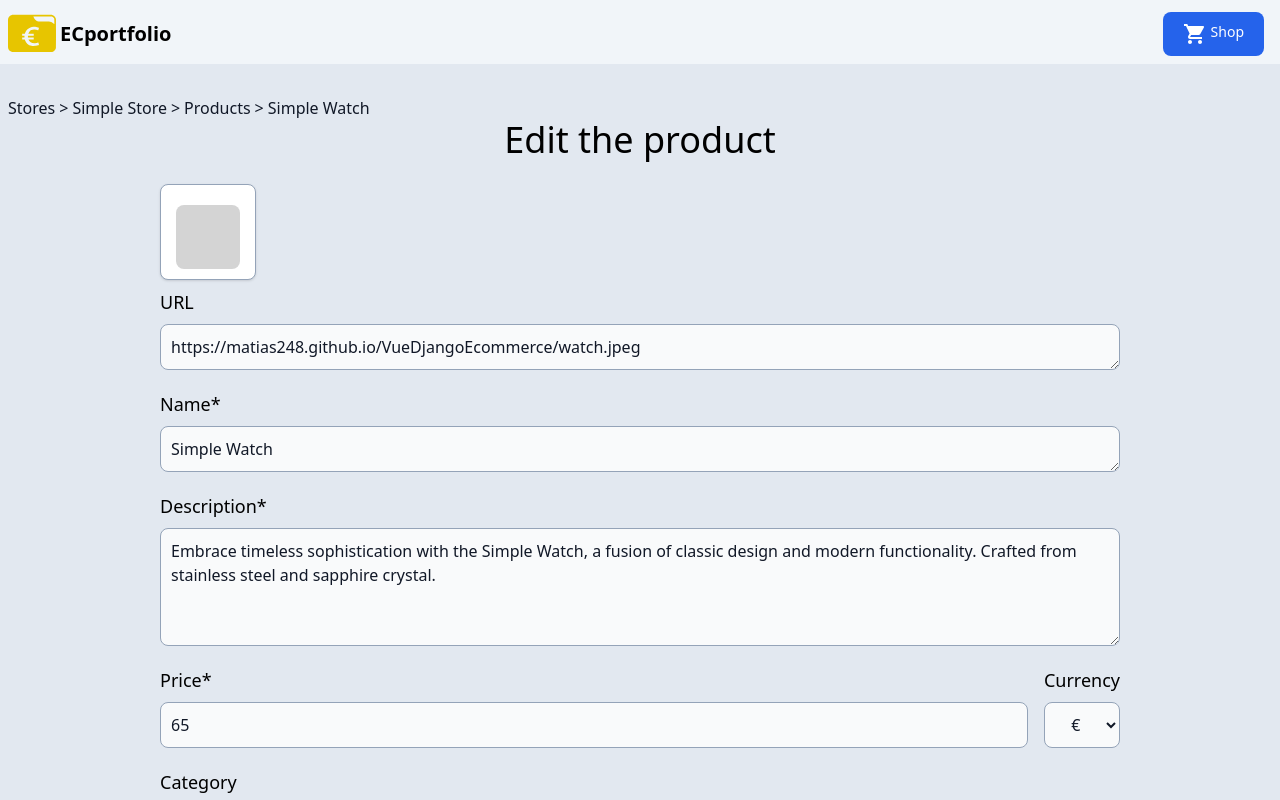
Test: Navigation bar test › In Product form to product view
What coordinates should you click on to do the following:
click the text with id "NavProductName"
I would click on:
 (319, 108)
Its box is [268, 96, 370, 120].
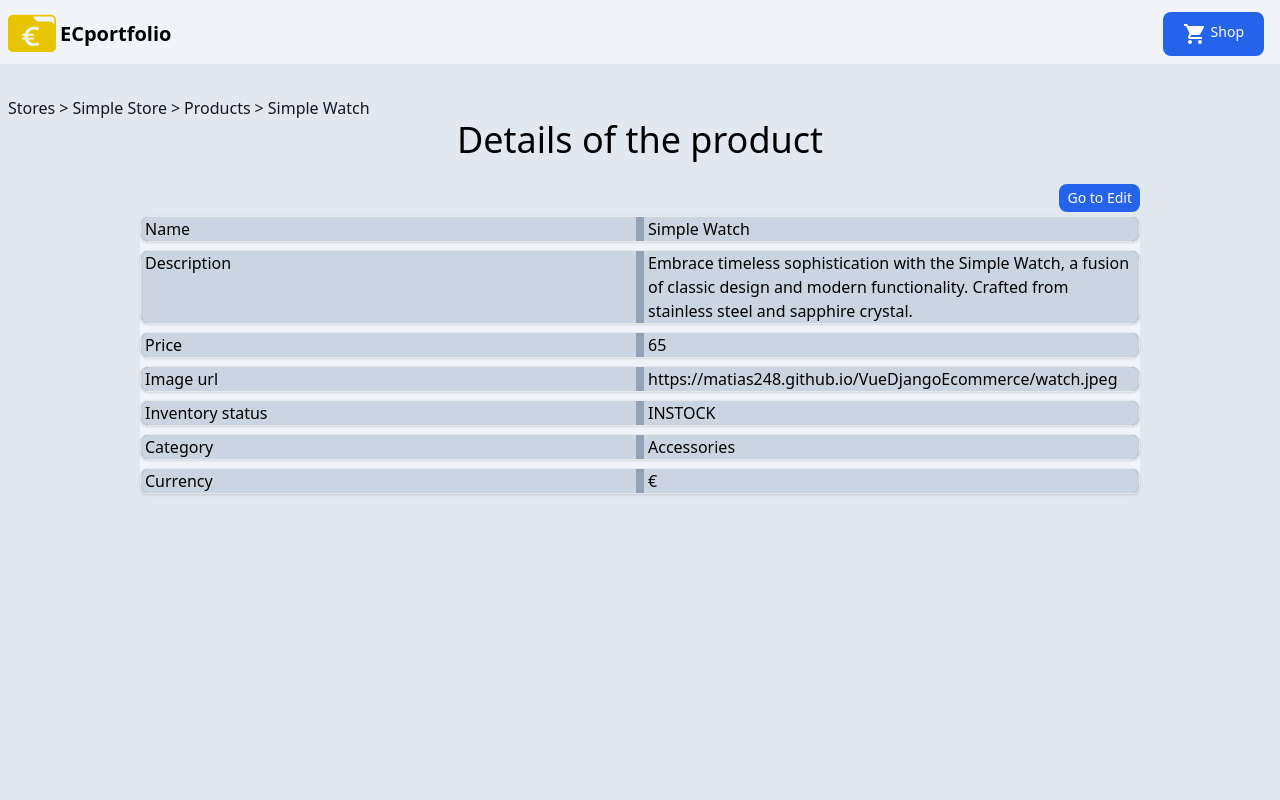
Result: the text "Details of the product" is shown at [457, 115, 823, 164]
